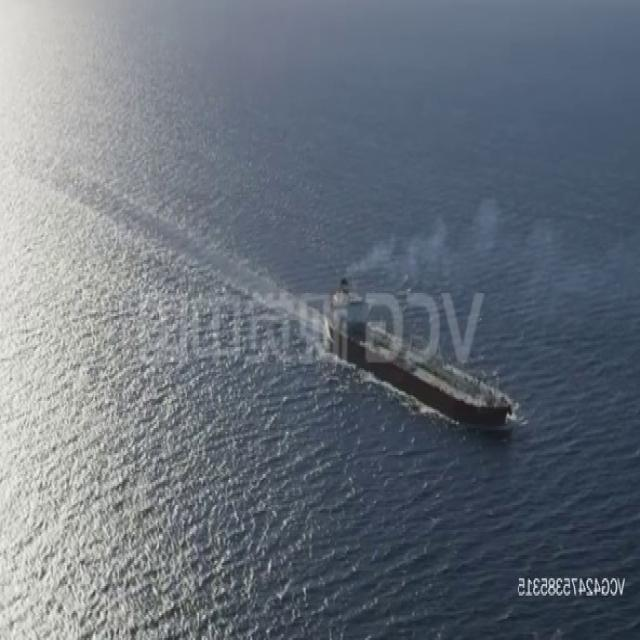cargoship: (325, 272, 523, 428)
